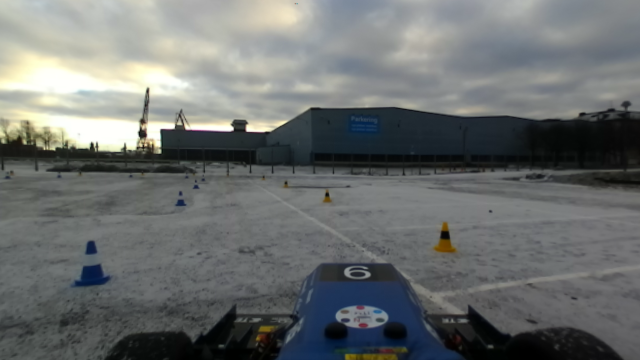blue: (72, 240, 112, 288)
yellow: (433, 220, 456, 254)
